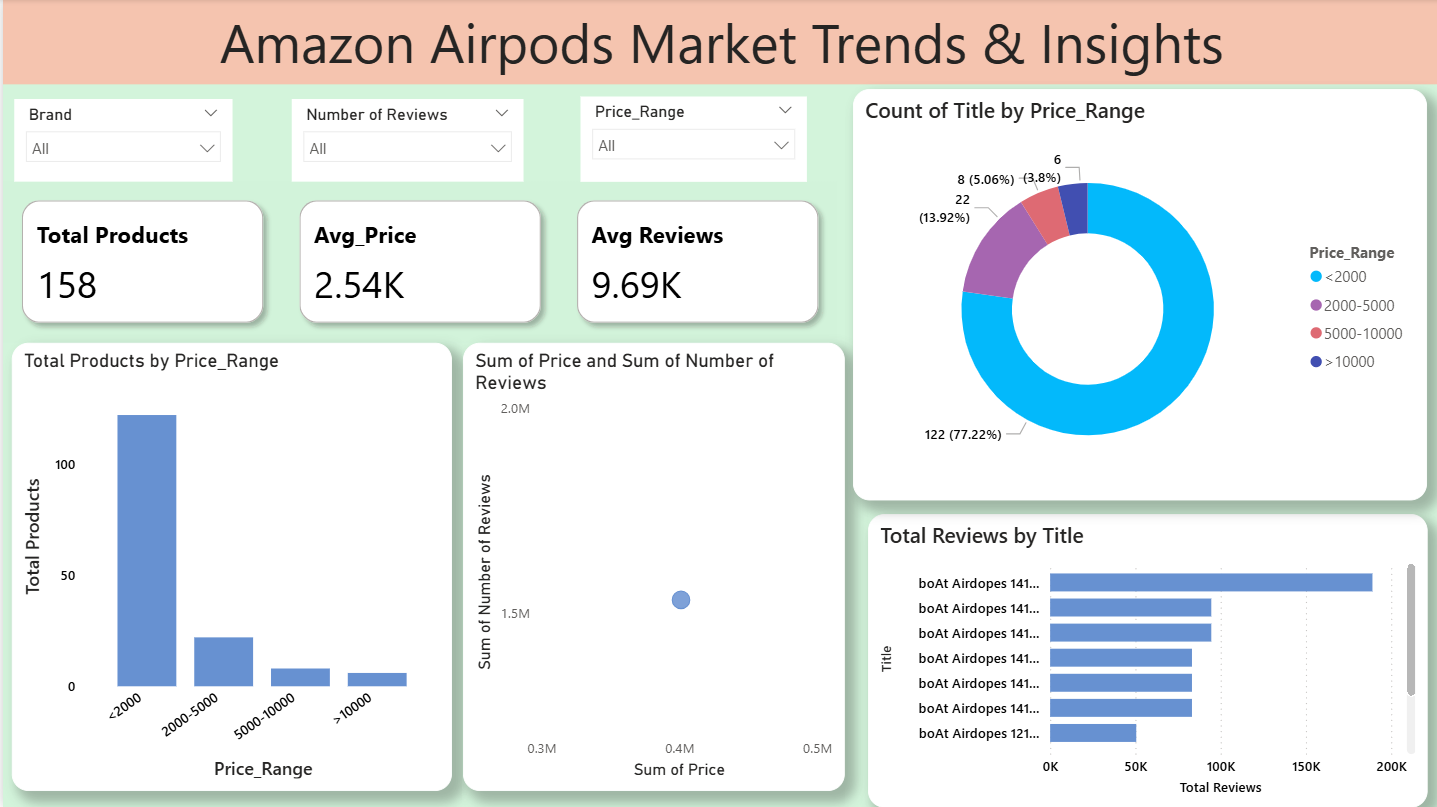

This screenshot's page, from the dashboard's own definition file:
{"tool":"powerbi","page":{"name":"Page 1","canvas":[1280,720],"ordinal":0},"visuals":[{"type":"textbox","box":[0,0,1280.3,75.8],"z":0},{"type":"cardVisual","fields":{"Data":["Sheet1.Total Products","Sheet1.Avg_Price","Sheet1.Avg Reviews"]},"box":[0,162.9,743.2,143.6],"z":1000},{"type":"clusteredColumnChart","fields":{"Category":["Sheet1.Price_Range"],"Y":["Sheet1.Total Products"]},"box":[7.2,306.4,392.1,399.3],"z":2000},{"type":"clusteredBarChart","fields":{"Category":["Sheet1.Title"],"Y":["Sheet1.Total Reviews"]},"box":[763.7,458.4,498.3,261.8],"z":3000},{"type":"scatterChart","fields":{"X":["Sum(Sheet1.Price)"],"Y":["Sum(Sheet1.Number of Reviews)"]},"box":[410.2,306.4,340.2,399.3],"z":4000},{"type":"donutChart","fields":{"Category":["Sheet1.Price_Range"],"Y":["CountNonNull(Sheet1.Title)"]},"box":[756.4,79.6,511.5,366.8],"z":5000},{"type":"slicer","fields":{"Values":["Sheet1.Brand"]},"box":[9.7,89.3,194.2,73.6],"z":6000},{"type":"slicer","fields":{"Values":["Sheet1.Price_Range"]},"box":[513.9,86.9,201.5,76],"z":7000},{"type":"slicer","fields":{"Values":["Sheet1.Number of Reviews"]},"box":[257,89.3,206.3,73.6],"z":8000}]}

Visuals, with their boxes in screenshot pixels (x1, y1, x2, y2), scaled from the page's 1280x720 canvas onto the 1437x807 screenshot:
textbox: <region>0, 0, 1436, 85</region>
cardVisual - Sheet1.Total Products x Sheet1.Avg_Price: <region>0, 183, 834, 344</region>
clusteredColumnChart - Sheet1.Price_Range x Sheet1.Total Products: <region>8, 343, 448, 791</region>
clusteredBarChart - Sheet1.Title x Sheet1.Total Reviews: <region>857, 514, 1417, 806</region>
scatterChart - Sum(Sheet1.Price) x Sum(Sheet1.Number of Reviews): <region>461, 343, 842, 791</region>
donutChart - Sheet1.Price_Range x CountNonNull(Sheet1.Title): <region>849, 89, 1423, 500</region>
slicer - Sheet1.Brand: <region>11, 100, 229, 183</region>
slicer - Sheet1.Price_Range: <region>577, 97, 803, 183</region>
slicer - Sheet1.Number of Reviews: <region>289, 100, 520, 183</region>
